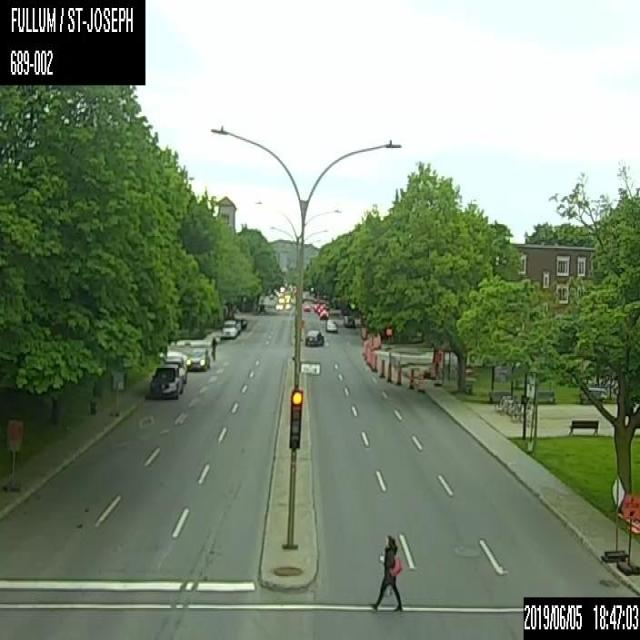construction: (601, 474, 627, 562), (616, 492, 639, 574), (1, 417, 23, 490), (110, 368, 124, 418), (432, 351, 442, 386), (407, 367, 415, 389), (385, 327, 392, 349), (386, 360, 392, 381), (379, 357, 385, 377), (372, 352, 378, 372), (395, 364, 401, 383)
cyclist: (210, 336, 217, 362)
pedestrian: (370, 532, 404, 615)
vehicle: (148, 362, 182, 398), (186, 347, 209, 371), (218, 317, 239, 339), (304, 328, 324, 347), (326, 318, 338, 332), (342, 315, 354, 328), (318, 307, 328, 319), (303, 304, 310, 310)
